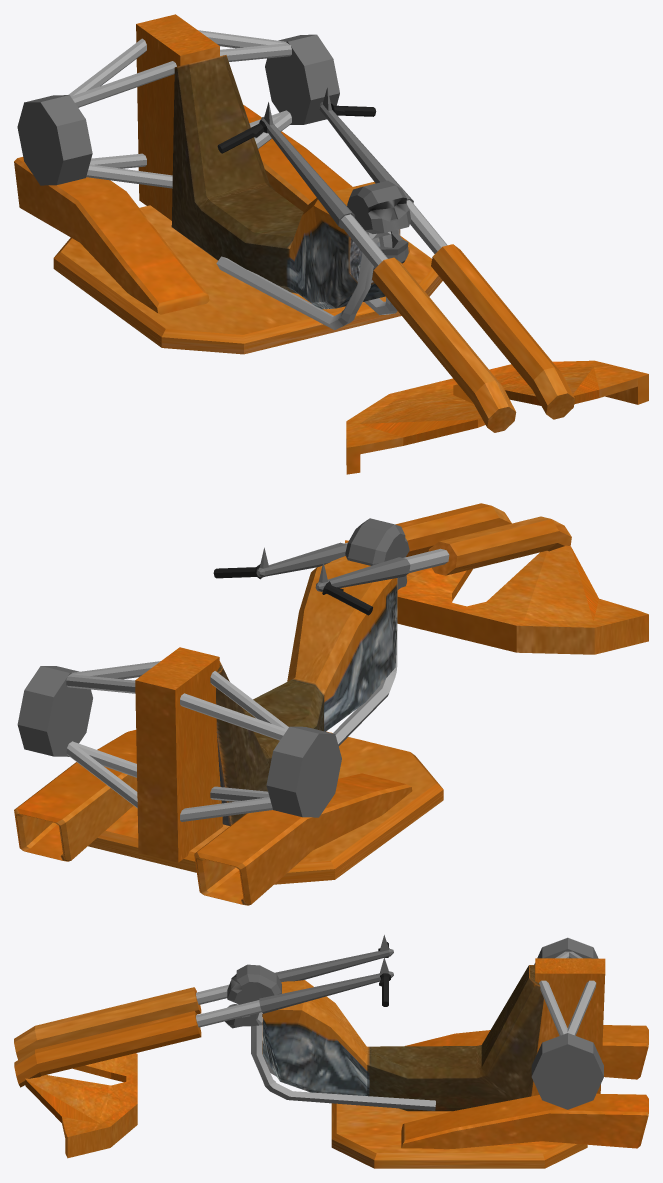
Rendered from Trike_Mower.fbx.
3 renders of one model, top to bottom at view 1: azimuth 30°, elevation 25°; view 2: azimuth 150°, elevation 25°; view 3: azimuth 270°, elevation 25°, orthographic. The views are drawn at different scales.
Visible parts, largest first — view 1: pCube106, pCube67, polySurface9, pCube105, pCube101, pCube102, pCube59, pCylinder43, pCylinder33, pCylinder44, pPlane7, pCube61 (+9 smaller); view 2: polySurface9, pCube106, pCube105, pCube101, pCube67, pCylinder43, pCylinder33, pCube59, pCube102, pPlane7, pCube109, pCube61 (+11 smaller); view 3: pCube106, polySurface9, pCube67, pCube105, pCube102, pCube59, pCube101, pCylinder33, pCylinder44, pPlane7, pCube113, pCube61 (+5 smaller).
Part boxes in pixels (x1=…): pCube106: x1=171, y1=55, x2=400, y2=309; pCube67: x1=53, y1=205, x2=442, y2=354; polySurface9: x1=14, y1=105, x2=409, y2=314; pCube105: x1=346, y1=360, x2=648, y2=474; pCube101: x1=136, y1=14, x2=219, y2=220; pCube102: x1=431, y1=244, x2=574, y2=419; pCube59: x1=372, y1=257, x2=516, y2=432; pCylinder43: x1=17, y1=95, x2=92, y2=185; pCylinder33: x1=265, y1=34, x2=339, y2=124; pCylinder44: x1=216, y1=231, x2=397, y2=330; pPlane7: x1=347, y1=180, x2=411, y2=263; pCube61: x1=261, y1=102, x2=354, y2=228; polySurface9: x1=14, y1=730, x2=412, y2=905; pCube106: x1=216, y1=556, x2=397, y2=825; pCube105: x1=345, y1=540, x2=648, y2=654; pCube101: x1=135, y1=647, x2=222, y2=862; pCube67: x1=88, y1=731, x2=443, y2=884; pCylinder43: x1=266, y1=726, x2=341, y2=817; pCylinder33: x1=17, y1=666, x2=92, y2=756; pCube59: x1=428, y1=516, x2=571, y2=575; pCube102: x1=395, y1=503, x2=511, y2=556; pPlane7: x1=345, y1=518, x2=409, y2=589; pCube109: x1=180, y1=693, x2=286, y2=740; pCube61: x1=315, y1=557, x2=410, y2=591; pCube106: x1=262, y1=965, x2=543, y2=1111; polySurface9: x1=401, y1=1025, x2=648, y2=1149; pCube67: x1=331, y1=1103, x2=587, y2=1168; pCube105: x1=25, y1=1053, x2=137, y2=1158; pCube102: x1=14, y1=1011, x2=201, y2=1087; pCube59: x1=14, y1=987, x2=201, y2=1059; pCube101: x1=532, y1=958, x2=605, y2=1096; pCylinder33: x1=531, y1=1033, x2=603, y2=1109; pCylinder44: x1=251, y1=1012, x2=435, y2=1110; pPlane7: x1=225, y1=964, x2=281, y2=1028; pCube113: x1=259, y1=957, x2=393, y2=1013; pCube61: x1=275, y1=935, x2=393, y2=981.
Size of the model in its own units: 24 by 16.27 by 55.33.
